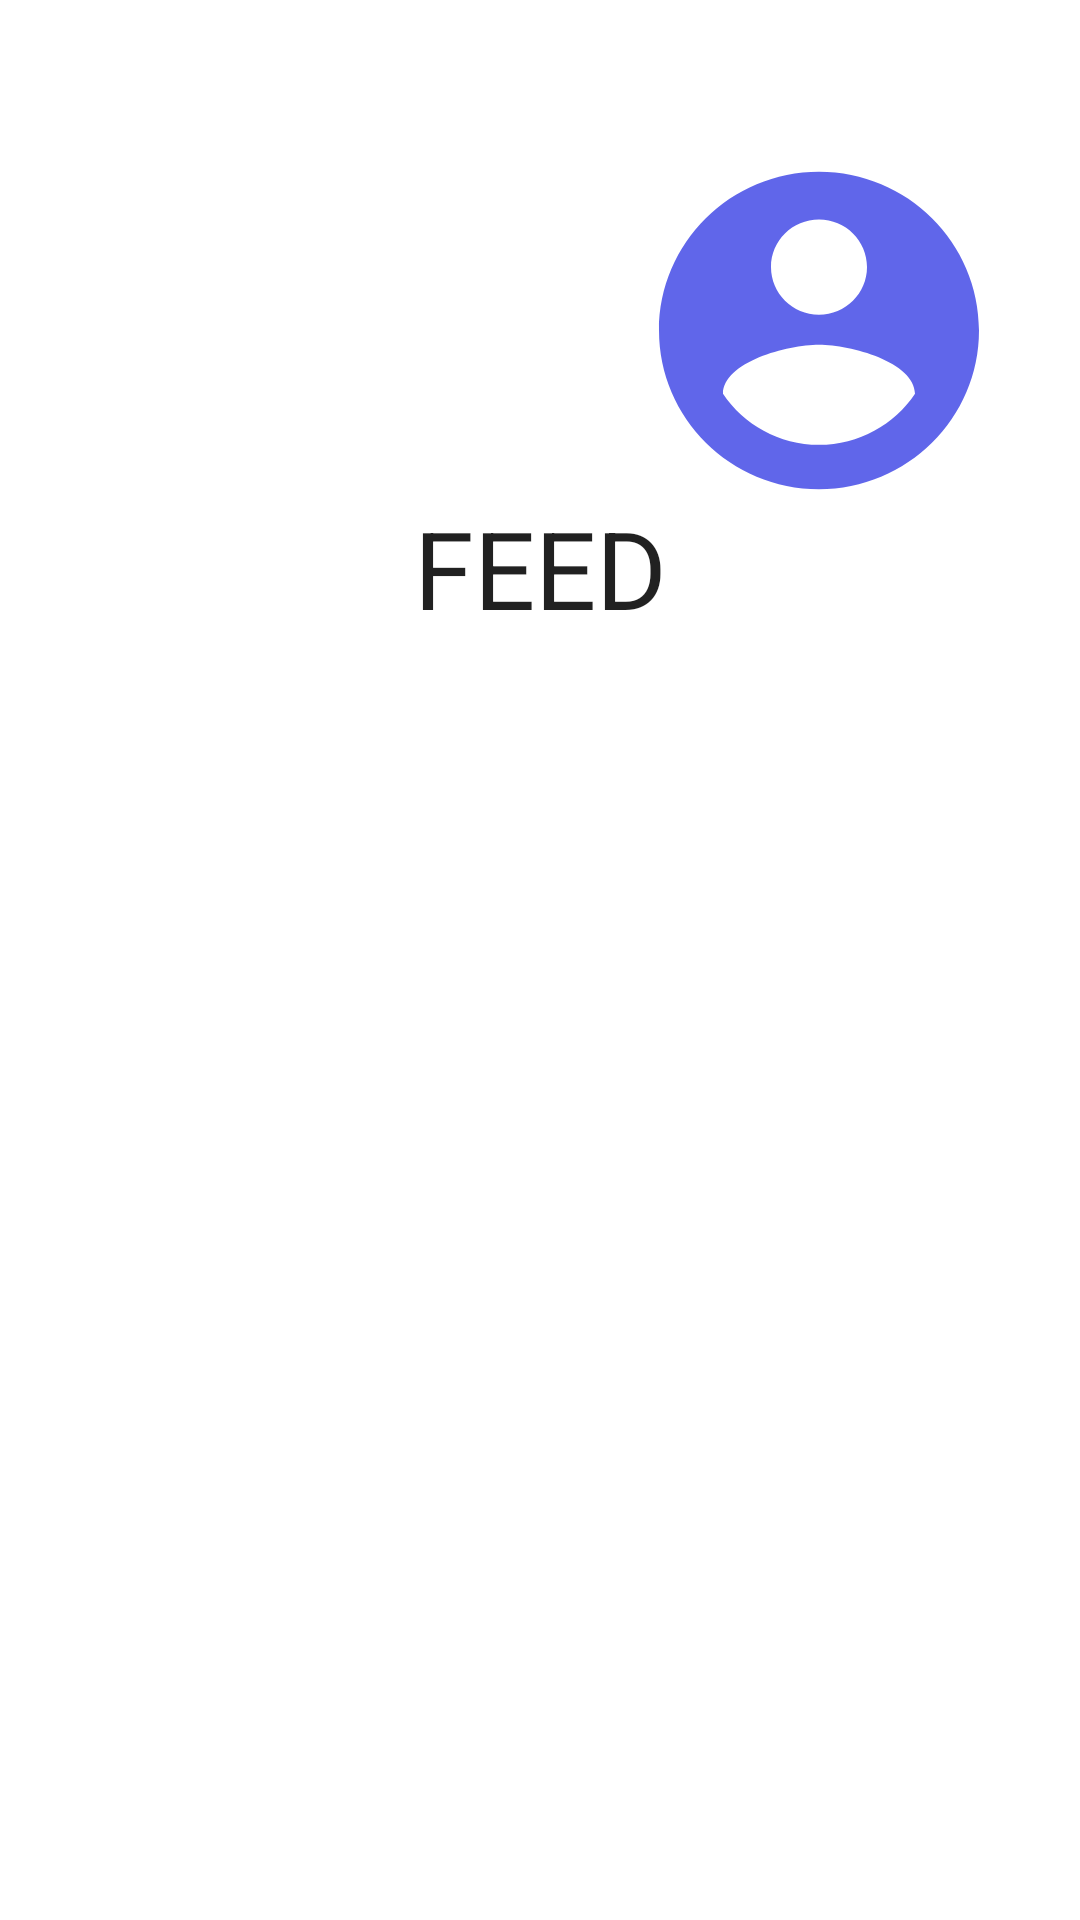

Where icons sit on this 1080×1920 app screen, as (x1, y1, x2, y2):
profile: (659, 171, 979, 490)
